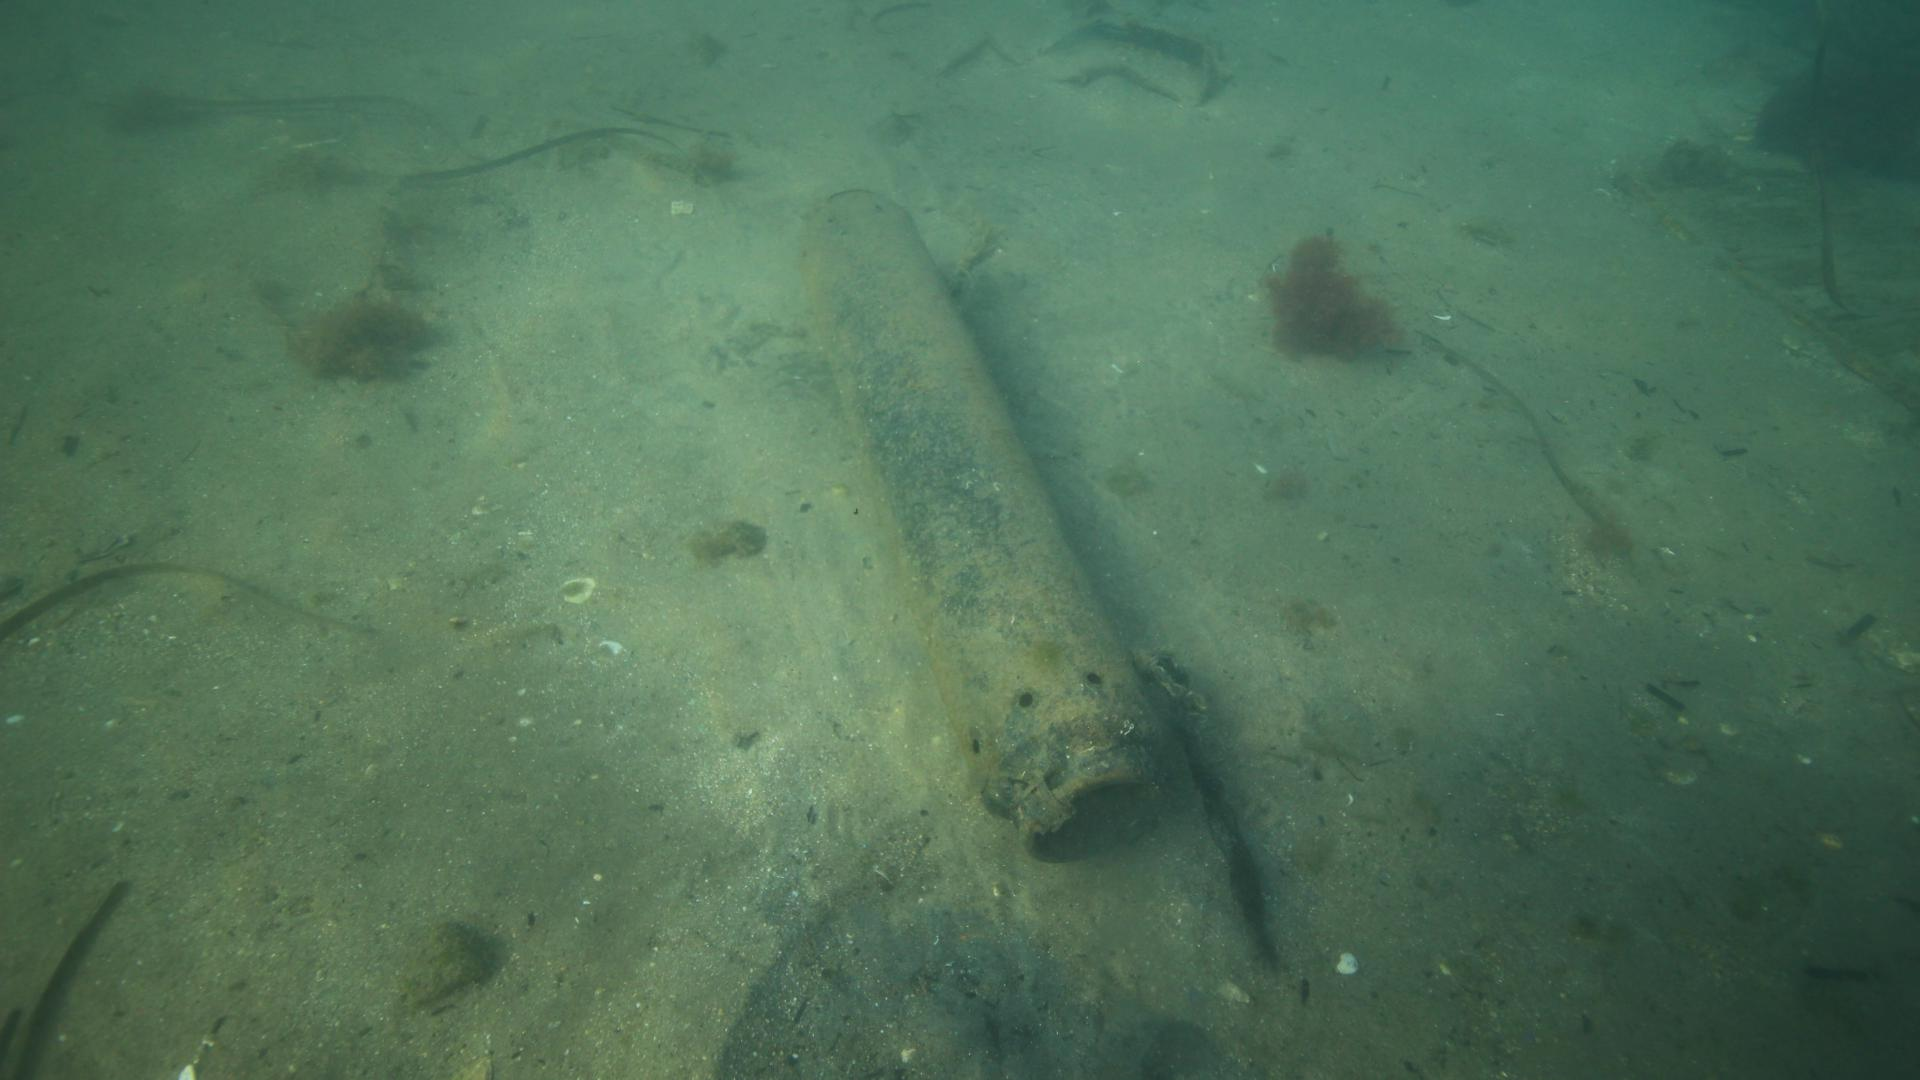eel fish trap: (790, 187, 1170, 872)
